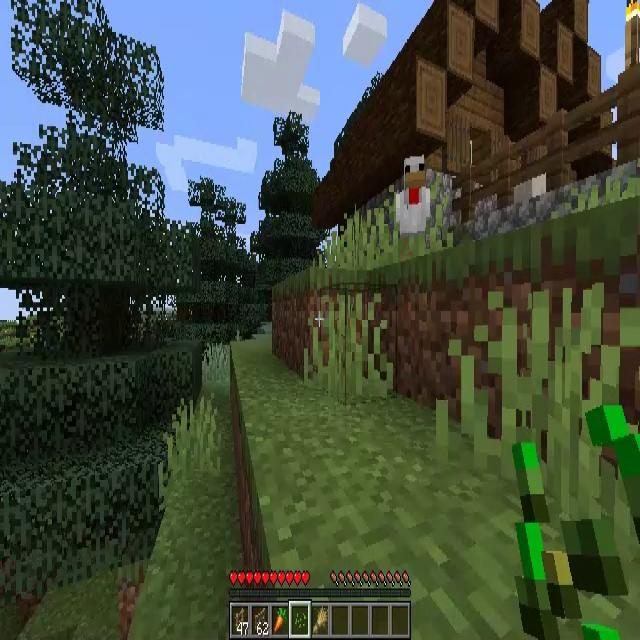duck: (395, 158, 432, 256)
